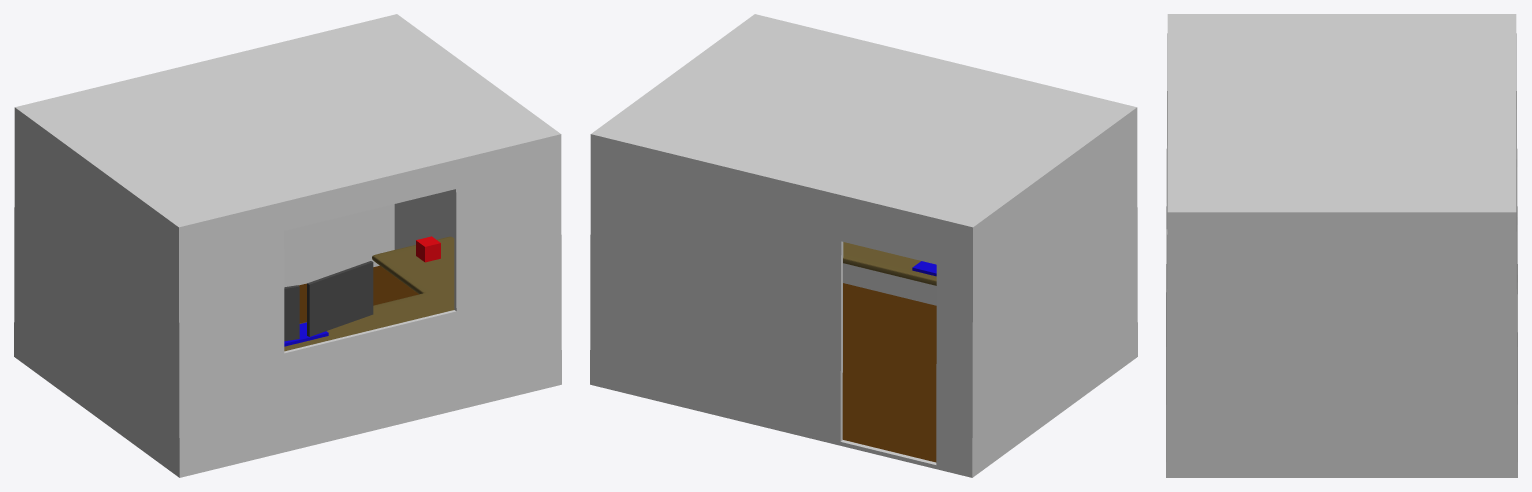
File: SmallRoom.fbx
3 views of the same model, side by side, from view 1: azimuth 30°, elevation 25°; view 2: azimuth 150°, elevation 25°; view 3: azimuth 270°, elevation 25° (orthographic). The views are drawn at different scales.
Parts seen in each view (by area): view 1: Room, Table, Monitor.001, Floor, Monitor; view 2: Room, Floor, Table; view 3: Room.
Part boxes in pixels (x1,y1,x2,y2): Room: (14,14,561,477); Table: (284,236,454,351); Monitor.001: (307,261,373,336); Floor: (299,265,418,323); Monitor: (284,285,299,341); Room: (590,14,1137,477); Floor: (842,283,936,462); Table: (843,242,936,285); Room: (1166,14,1517,477).
Size of the model in its own units: 800 by 500 by 600.
